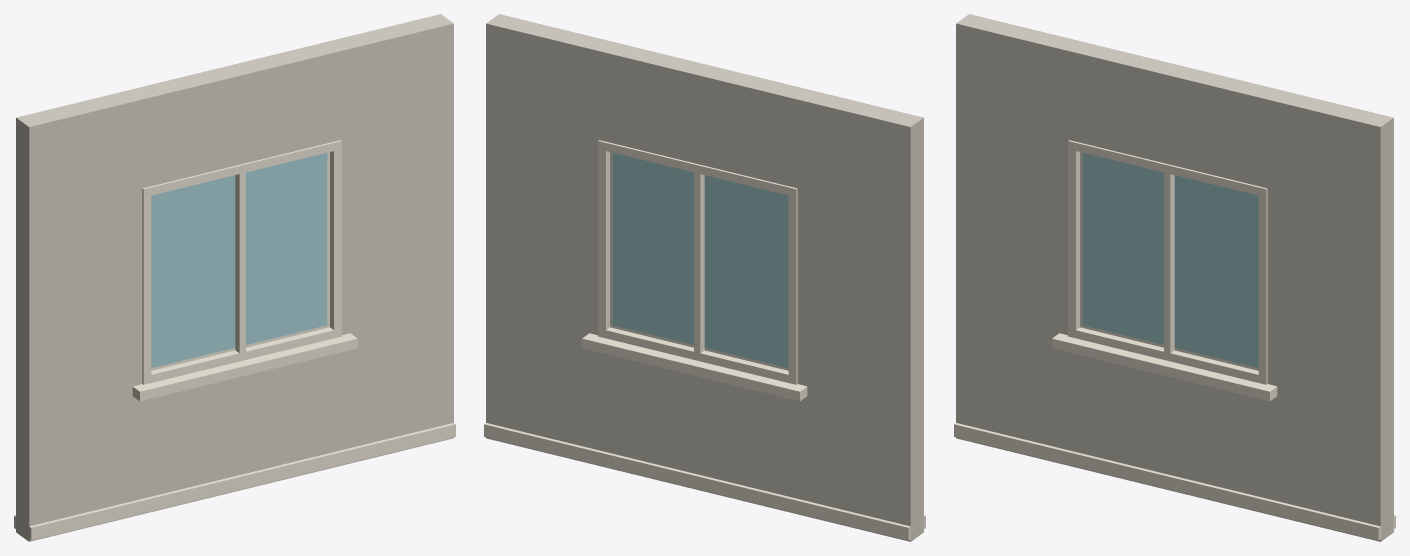
Rendered from Wall_Window_300.fbx.
3 views of the same model, side by side, from view 1: azimuth 30°, elevation 25°; view 2: azimuth 150°, elevation 25°; view 3: azimuth 330°, elevation 25° (orthographic).
Parts seen in each view (by area): view 1: Wall_Window_300; view 2: Wall_Window_300; view 3: Wall_Window_300.
Boxes of the visible parts, x1=… form: Wall_Window_300: x1=14, y1=14, x2=455, y2=541; Wall_Window_300: x1=484, y1=14, x2=925, y2=541; Wall_Window_300: x1=954, y1=14, x2=1395, y2=541.
Bounding box in the file's own units: 3 × 2.8 × 0.34.
